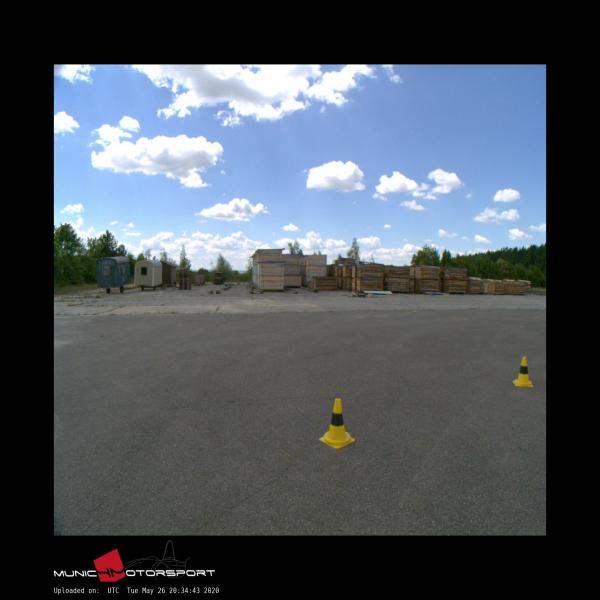yellow_cone: (319, 397, 355, 448), (512, 356, 532, 387)
